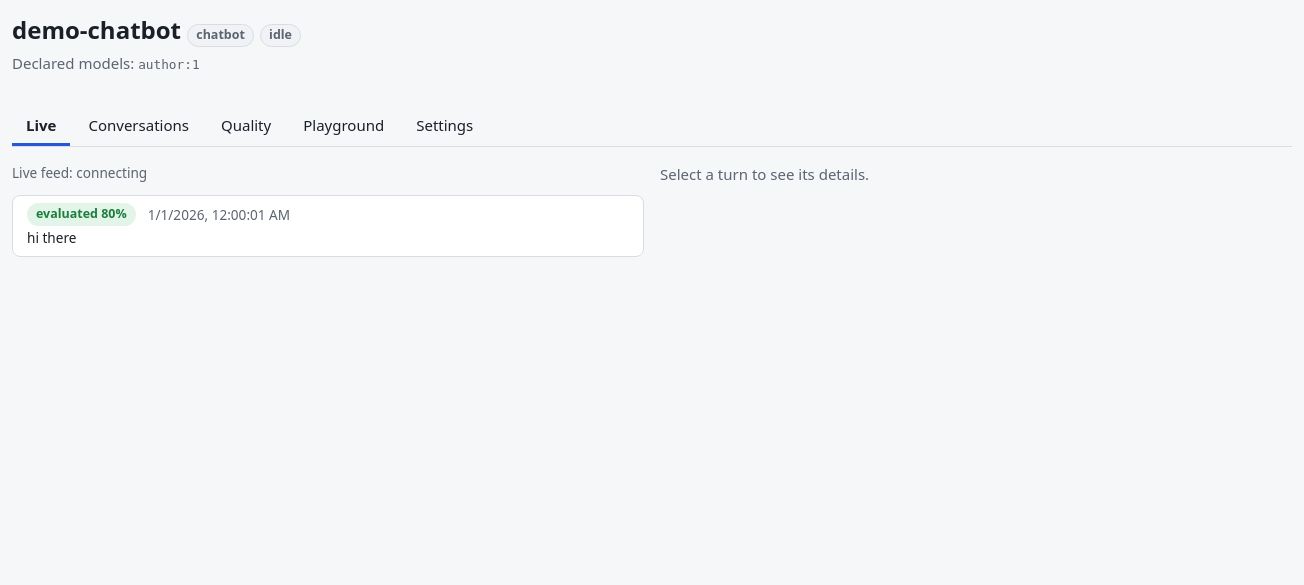
it: conversations tab › re-evaluating posts to the evaluate endpoint and creates a new attempt
The width and height of the screenshot is (1304, 585).
Click the tab "Conversations" at (139, 126), box [74,106,203,146]
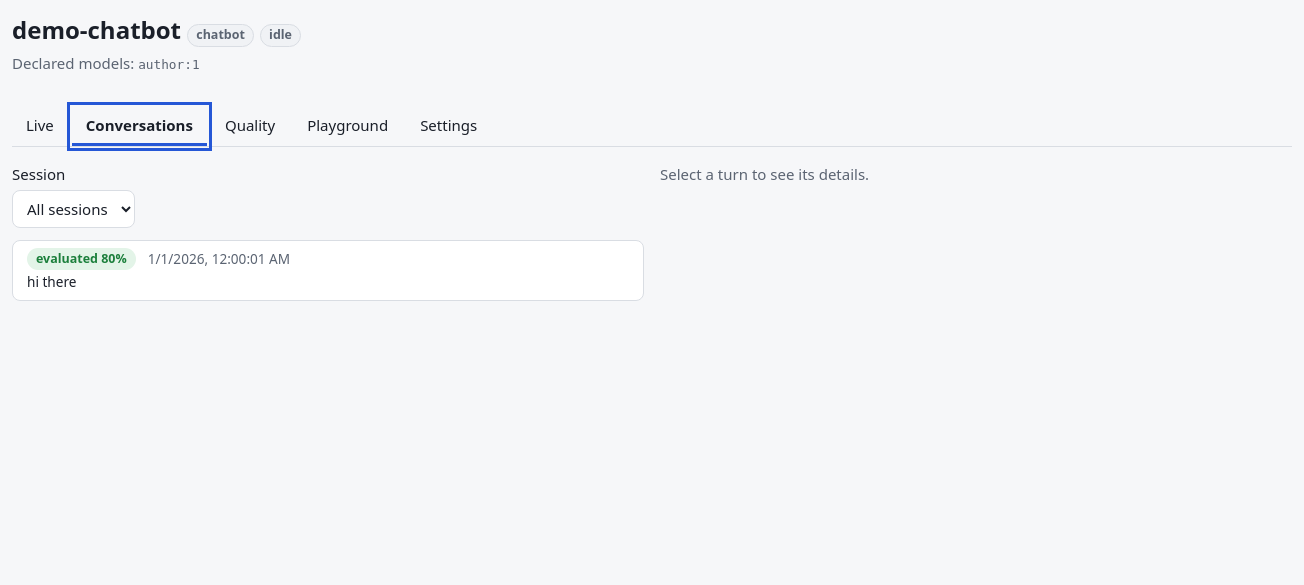
Click the text "hi there" at (52, 282), box [27,272,76,293]
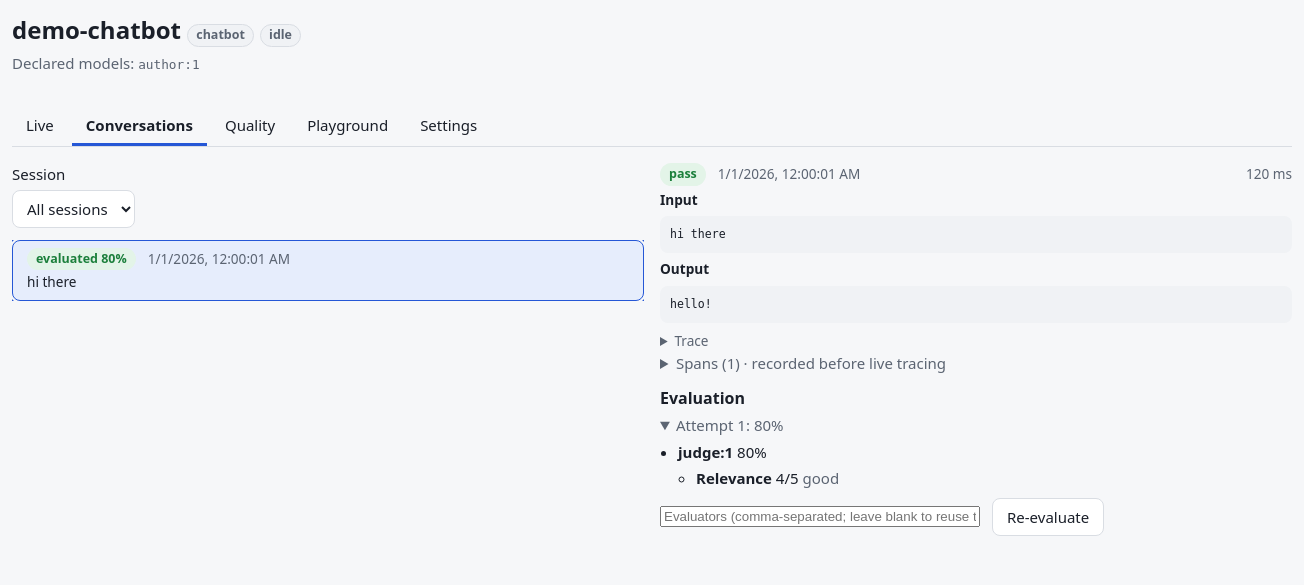
Click the button "Re-evaluate" at (1048, 517), box [992,498,1104,536]
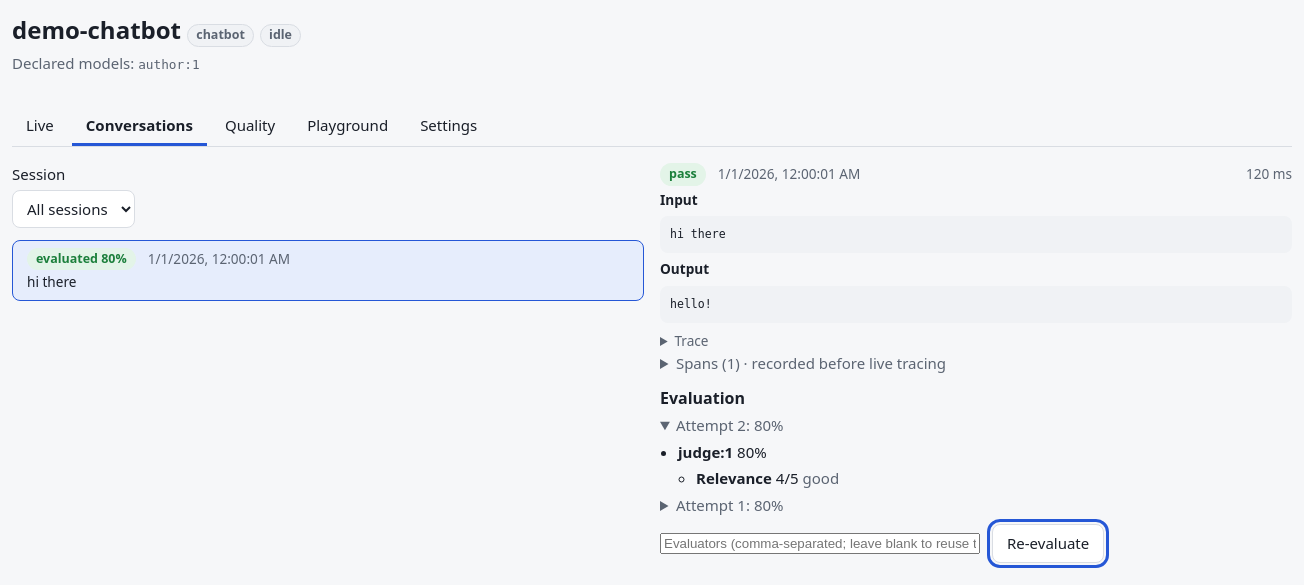
Expected: the heading "Attempt 2: 80%" is shown, [676,415,784,435]
